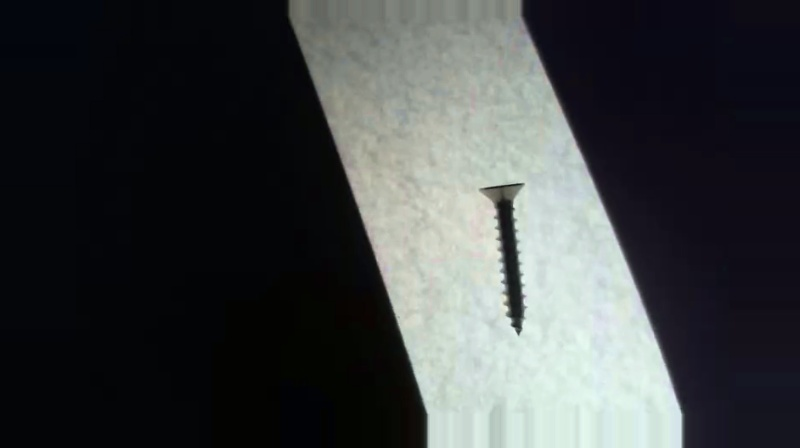S001: (478, 179, 529, 335)
